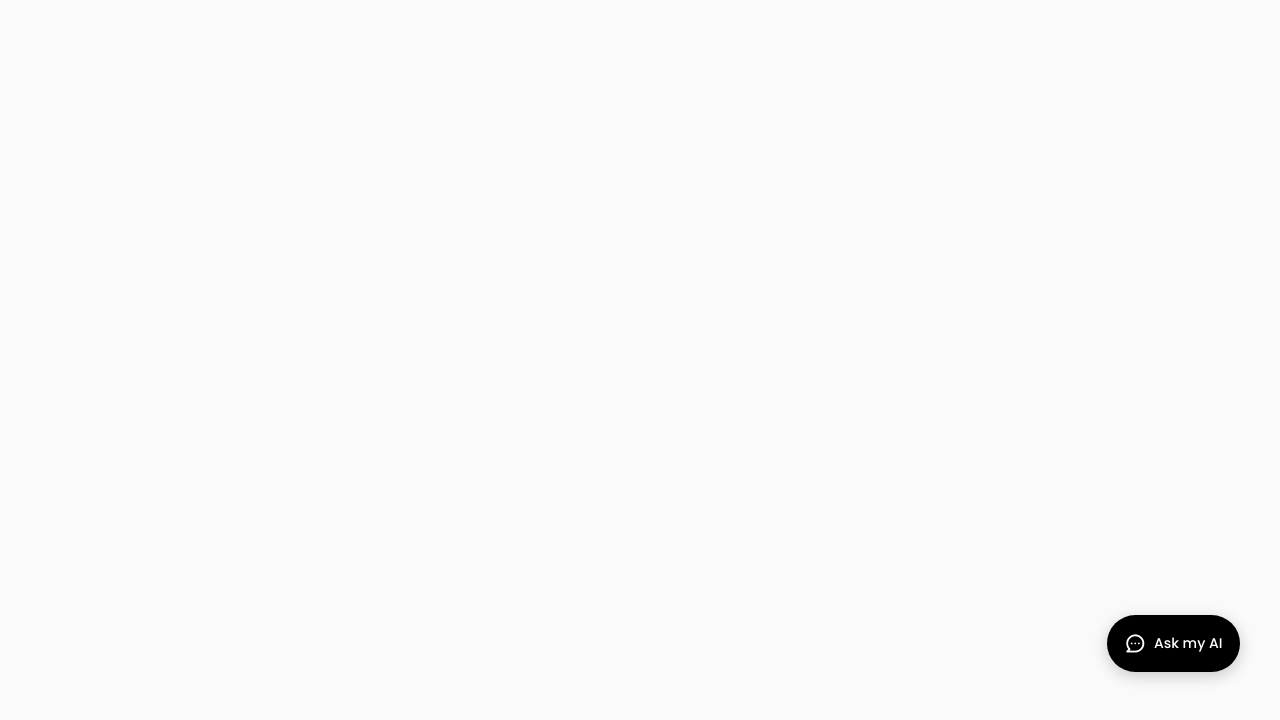
ChatWidget › starts closed; the button opens a dialog with a greeting, suggestions and a focused input
Click the button with aria-label "open chat": x=1173, y=644 [1107,615,1240,672]
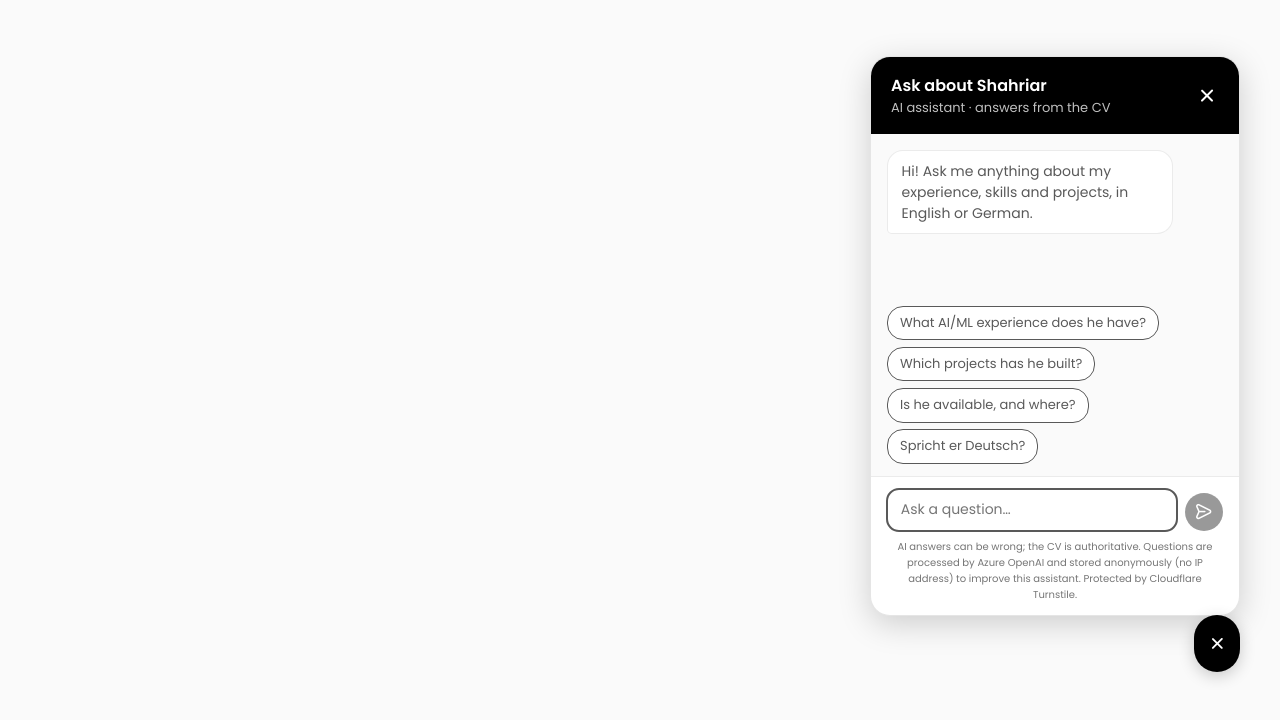
Check: the dialog is shown, box [870,56,1240,616]
Check: the text "Ask me anything about my experience" is shown, box [902,161,1128,223]
Check: the button "What AI/ML experience does he have?" is shown, box [887,306,1159,340]
